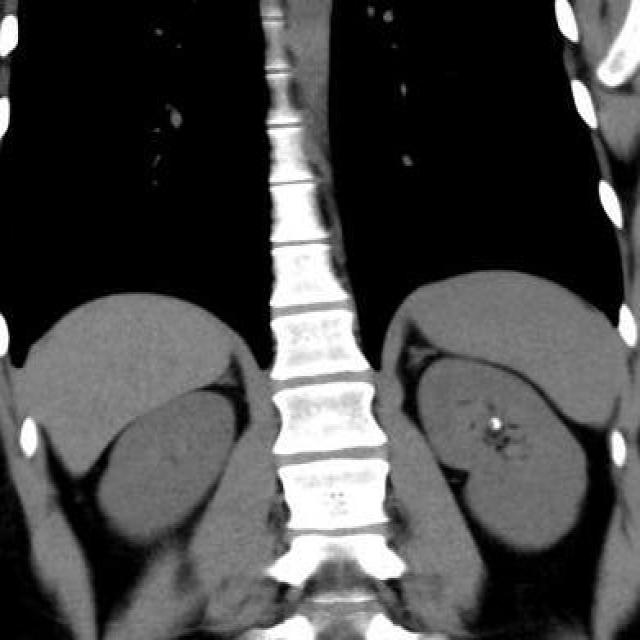Tas_Var: (492, 420, 502, 432), (492, 417, 498, 423)
